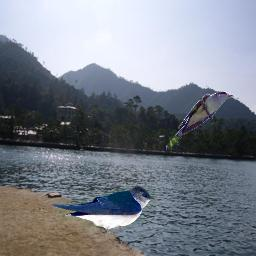Cuckoo: (166, 91, 234, 150)
Swallow: (51, 186, 156, 238)
